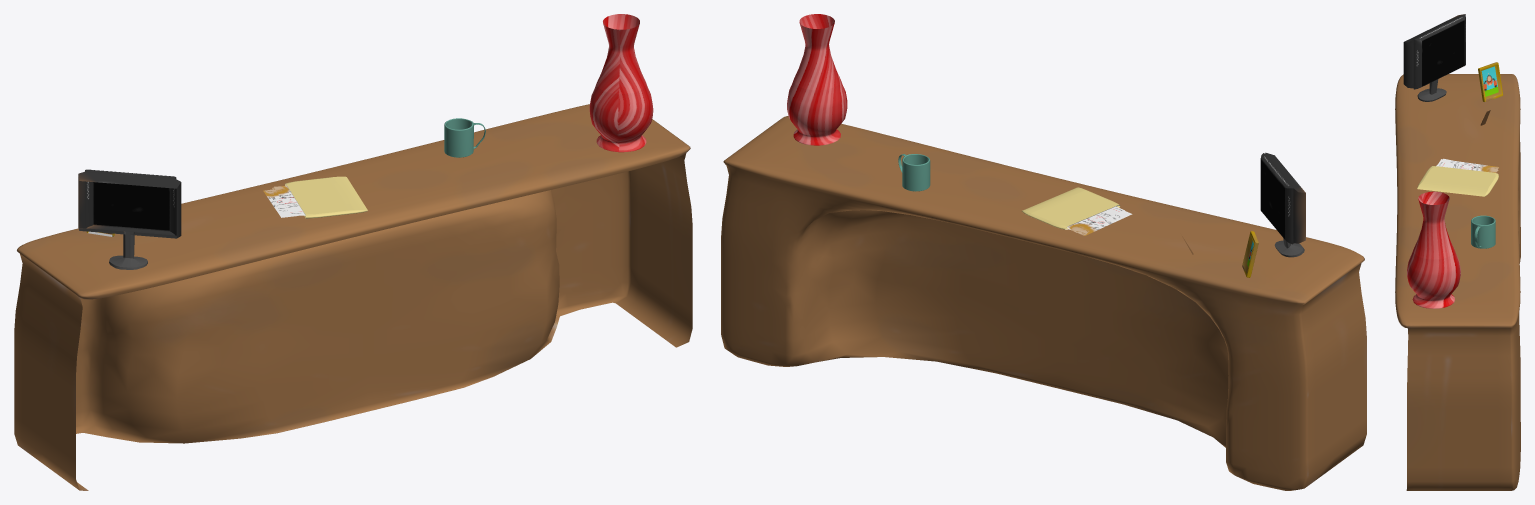
The model's file is Textured Desktop.fbx.
The picture shows the model from 3 angles, left to right: view 1: azimuth 30°, elevation 25°; view 2: azimuth 150°, elevation 25°; view 3: azimuth 270°, elevation 25°; orthographic projection. The views are drawn at different scales.
Visible parts, largest first — view 1: Desk, Computer, Vase, Folder, Mug; view 2: Desk, Vase, Computer, Folder, Mug; view 3: Desk, Vase, Computer, Folder, Mug, Frame, Paper3.
Boxes of the visible parts, x1,y1,x2,y2 form: Desk: (14, 104, 692, 490); Computer: (78, 169, 181, 269); Vase: (589, 14, 653, 152); Folder: (285, 176, 367, 218); Mug: (444, 118, 485, 157); Desk: (721, 116, 1366, 490); Vase: (787, 14, 847, 145); Computer: (1260, 152, 1305, 257); Folder: (1022, 187, 1120, 229); Mug: (898, 154, 930, 191); Desk: (1395, 74, 1520, 490); Vase: (1407, 191, 1460, 308); Computer: (1403, 14, 1465, 101); Folder: (1417, 166, 1498, 196); Mug: (1471, 215, 1495, 248); Frame: (1478, 62, 1503, 102); Paper3: (1437, 161, 1497, 172).
Size of the model in its own units: 333 by 168 by 69.51.
